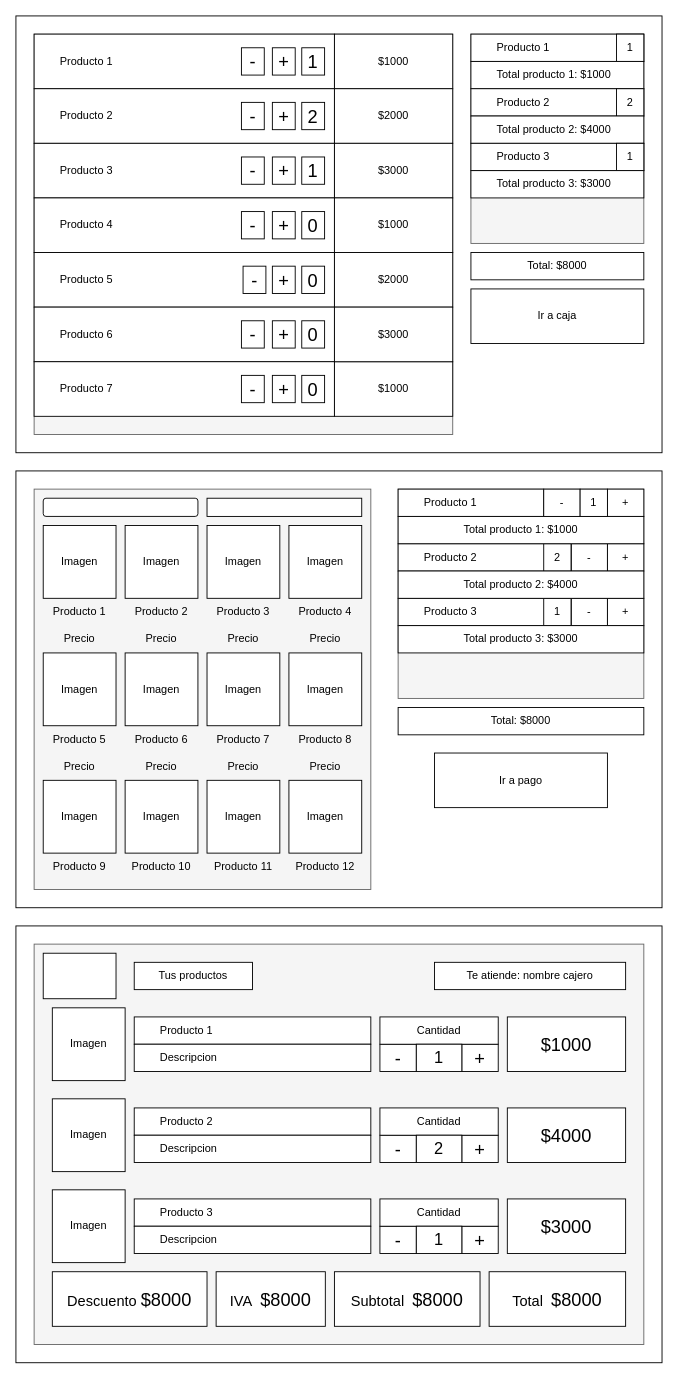
Image size: 678x1379. Some labels were removed from this diagram. Each missing label, with the centre of its shape:
Buscar: point 120,506
Logo o Nombre: point 79,975
Ordenar: point 284,506
